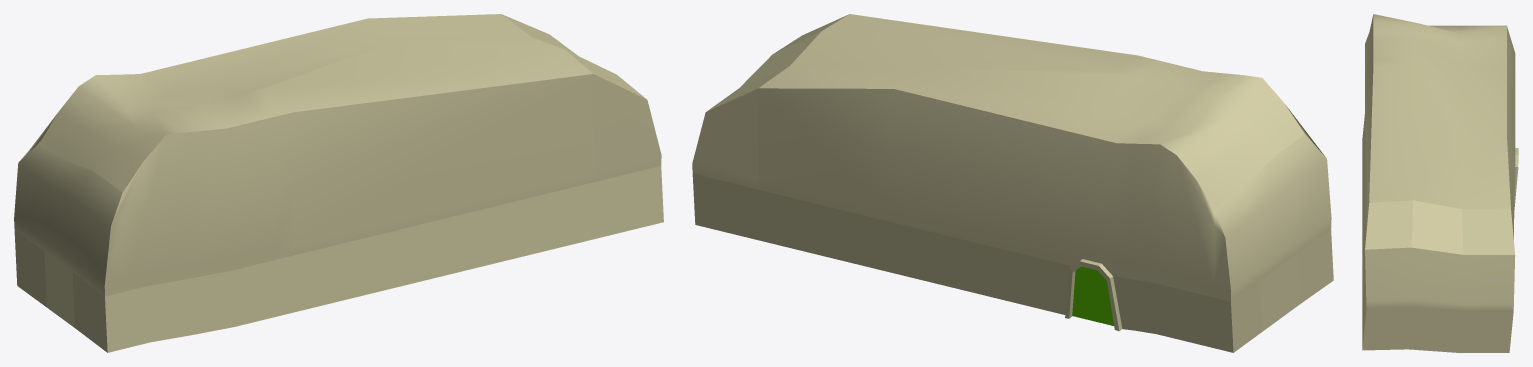
The model's file is hut5.fbx.
The picture shows the model from 3 angles, left to right: view 1: azimuth 30°, elevation 25°; view 2: azimuth 150°, elevation 25°; view 3: azimuth 270°, elevation 25°; orthographic projection. The views are drawn at different scales.
Visible parts, largest first — view 1: pasted__pCube5; view 2: pasted__pCube5; view 3: pasted__pCube5.
Part boxes in pixels (x1=…): pasted__pCube5: x1=14, y1=14, x2=663, y2=352; pasted__pCube5: x1=692, y1=14, x2=1333, y2=352; pasted__pCube5: x1=1362, y1=14, x2=1518, y2=352.
Bounding box in the file's own units: 41.18 × 14.46 × 13.11.
